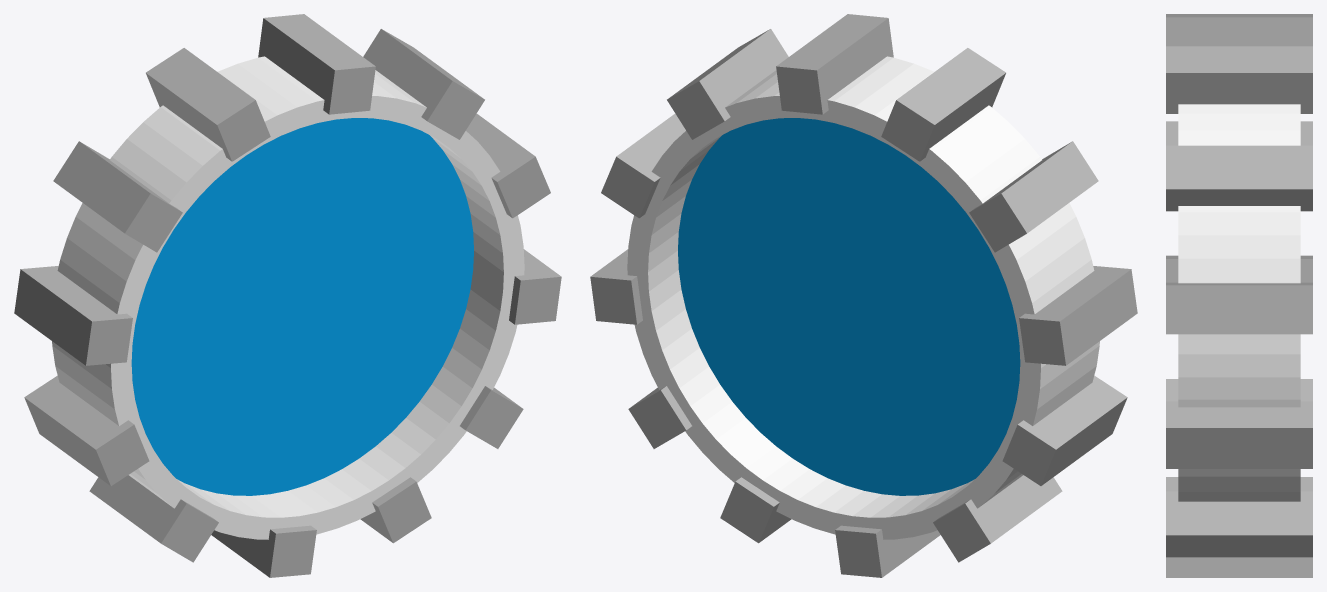
Rendered from gate.glb.
3 renders of one model, left to right at view 1: azimuth 30°, elevation 25°; view 2: azimuth 150°, elevation 25°; view 3: azimuth 270°, elevation 25°, orthographic. The views are drawn at different scales.
Visible parts, largest first — view 1: Circle, Cube, Cylinder; view 2: Circle, Cube, Cylinder; view 3: Cube, Cylinder.
Boxes of the visible parts, box(x1,y1,x2,y2) form: Circle: box(131, 118, 473, 495); Cube: box(14, 14, 561, 577); Cylinder: box(52, 56, 524, 539); Circle: box(678, 118, 1020, 495); Cube: box(590, 14, 1137, 577); Cylinder: box(627, 56, 1099, 539); Cube: box(1166, 14, 1312, 577); Cylinder: box(1178, 104, 1300, 501).
Size of the model in its own units: 2.3 by 2.3 by 0.6.
